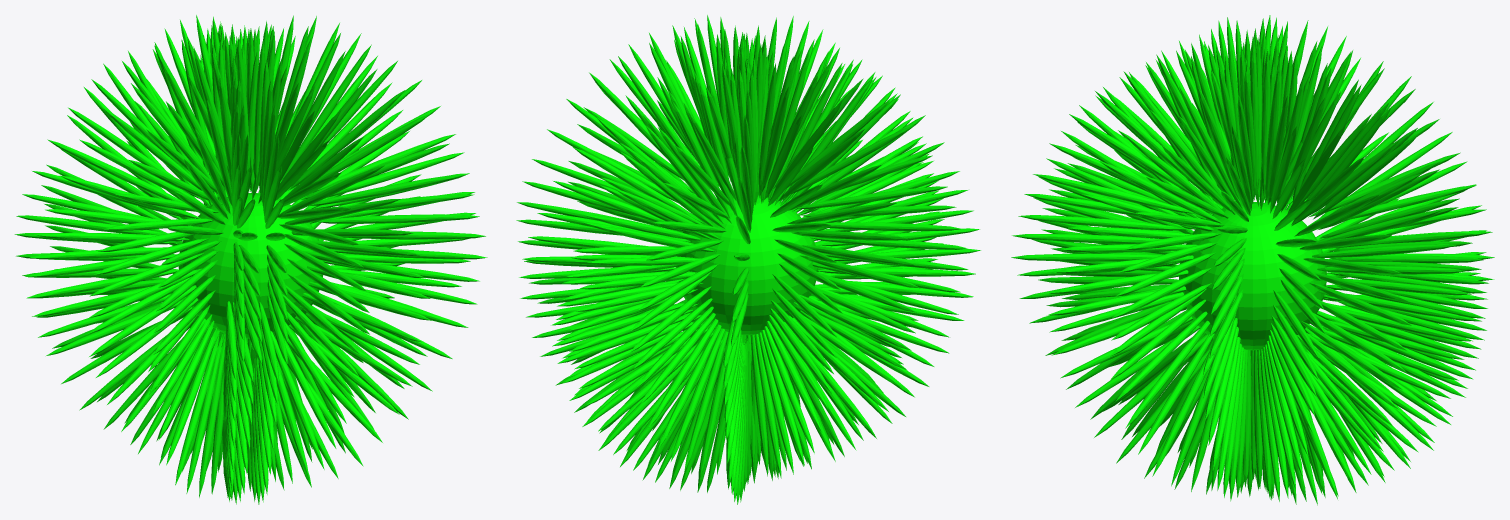
File: fireworkgreen.glb
The picture shows the model from 3 angles, left to right: view 1: azimuth 30°, elevation 25°; view 2: azimuth 150°, elevation 25°; view 3: azimuth 270°, elevation 25°; orthographic projection. The views are drawn at different scales.
Parts seen in each view (by area): view 1: sparks1; view 2: sparks1; view 3: sparks1.
Part boxes in pixels (left/top/right/bottom): sparks1: left=14, top=15, right=487, bottom=504; sparks1: left=516, top=15, right=980, bottom=504; sparks1: left=1011, top=15, right=1494, bottom=505.
Bounding box in the file's own units: 11.21 × 12 × 11.44.
